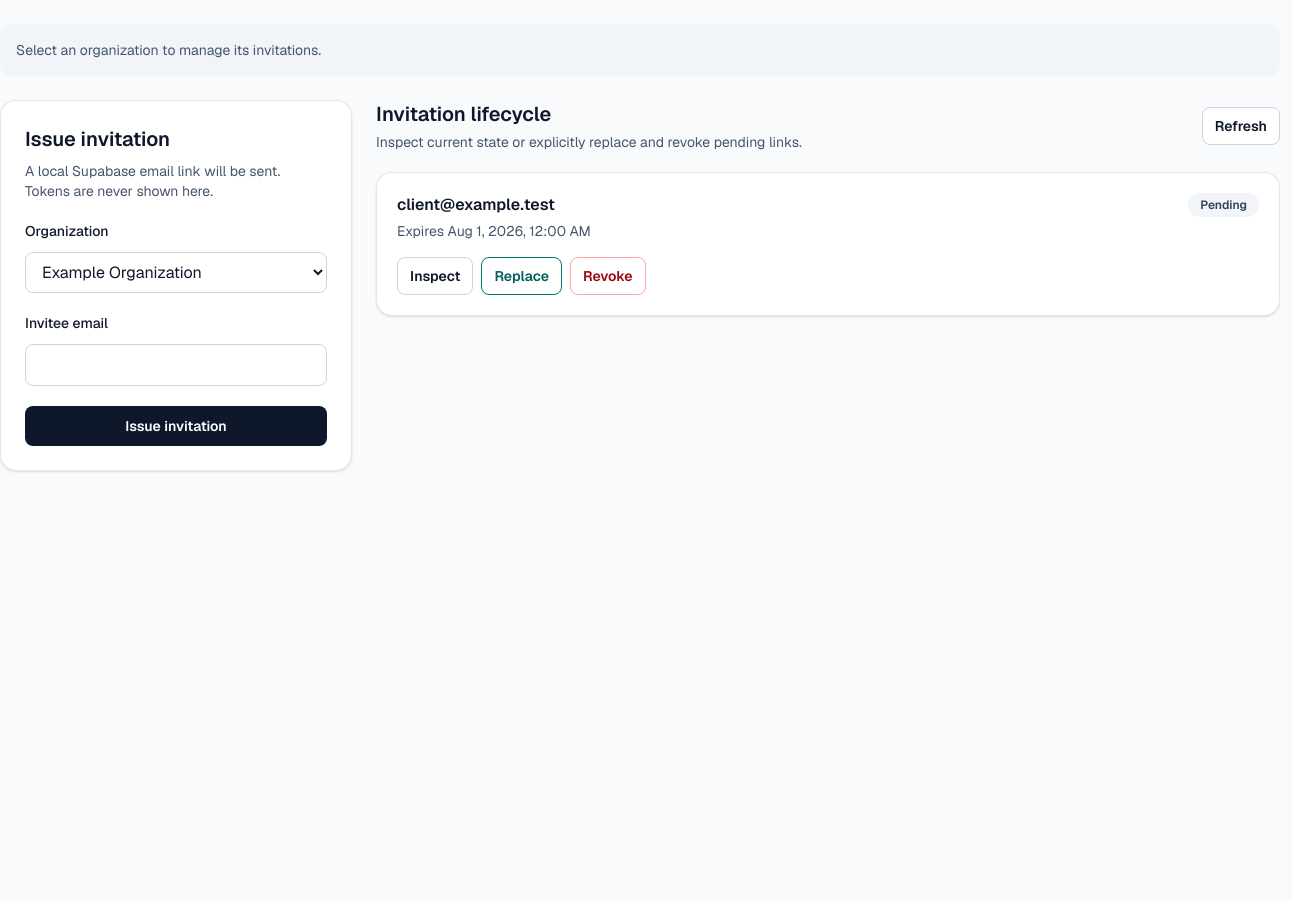
Test: InvitationManager › supports inspection and pending lifecycle actions
Check: the text "client@example.test" is shown, box [397,194,555,215]
Click the button "Inspect": coordinates (435, 276) [397,257,473,295]
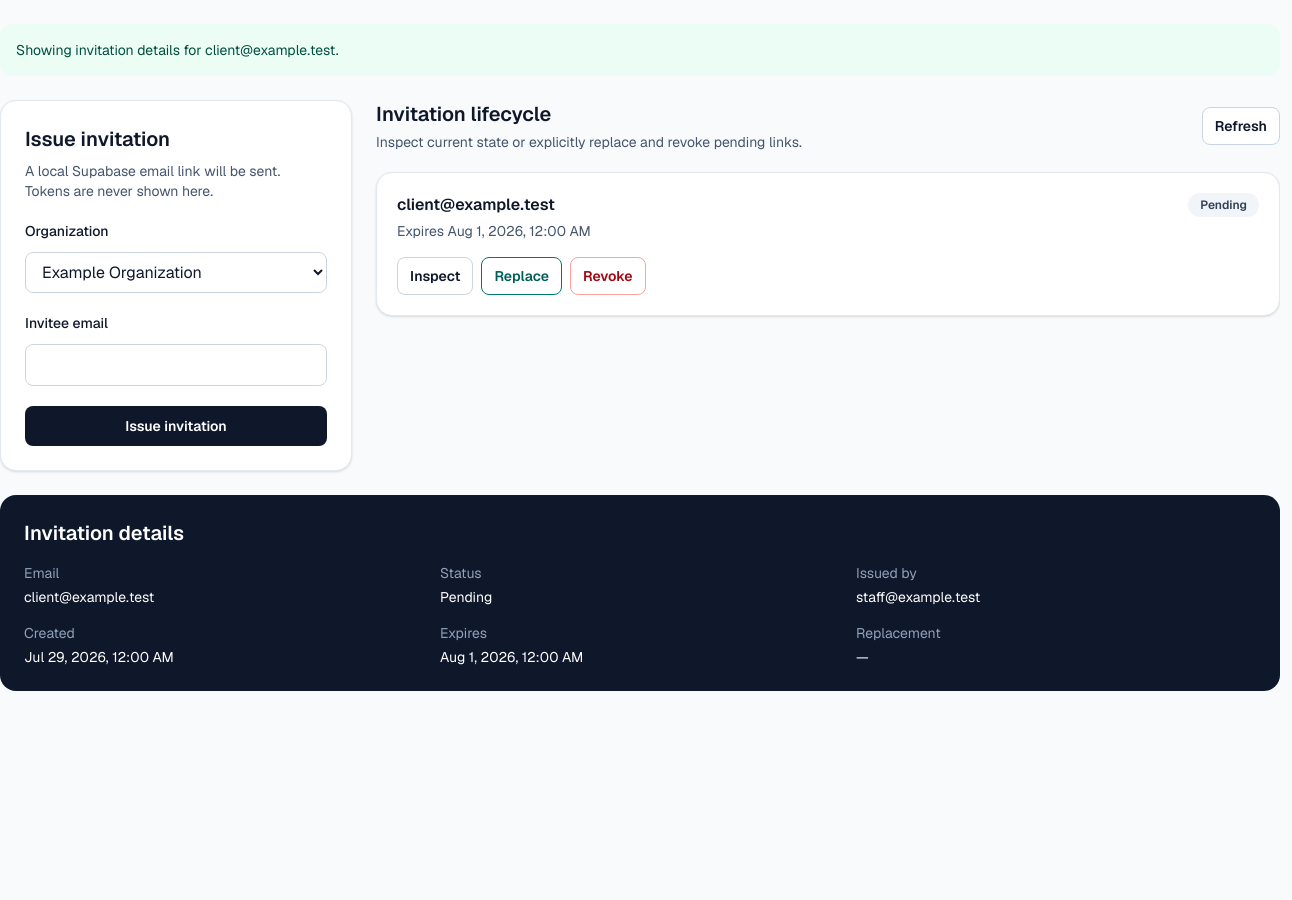
Check: the heading "Invitation details" is shown, box [24,520,184,546]
Check: the text "staff@example.test" is shown, box [856,588,980,606]
Click the button "Replace": coordinates (522, 276) [481,257,562,295]
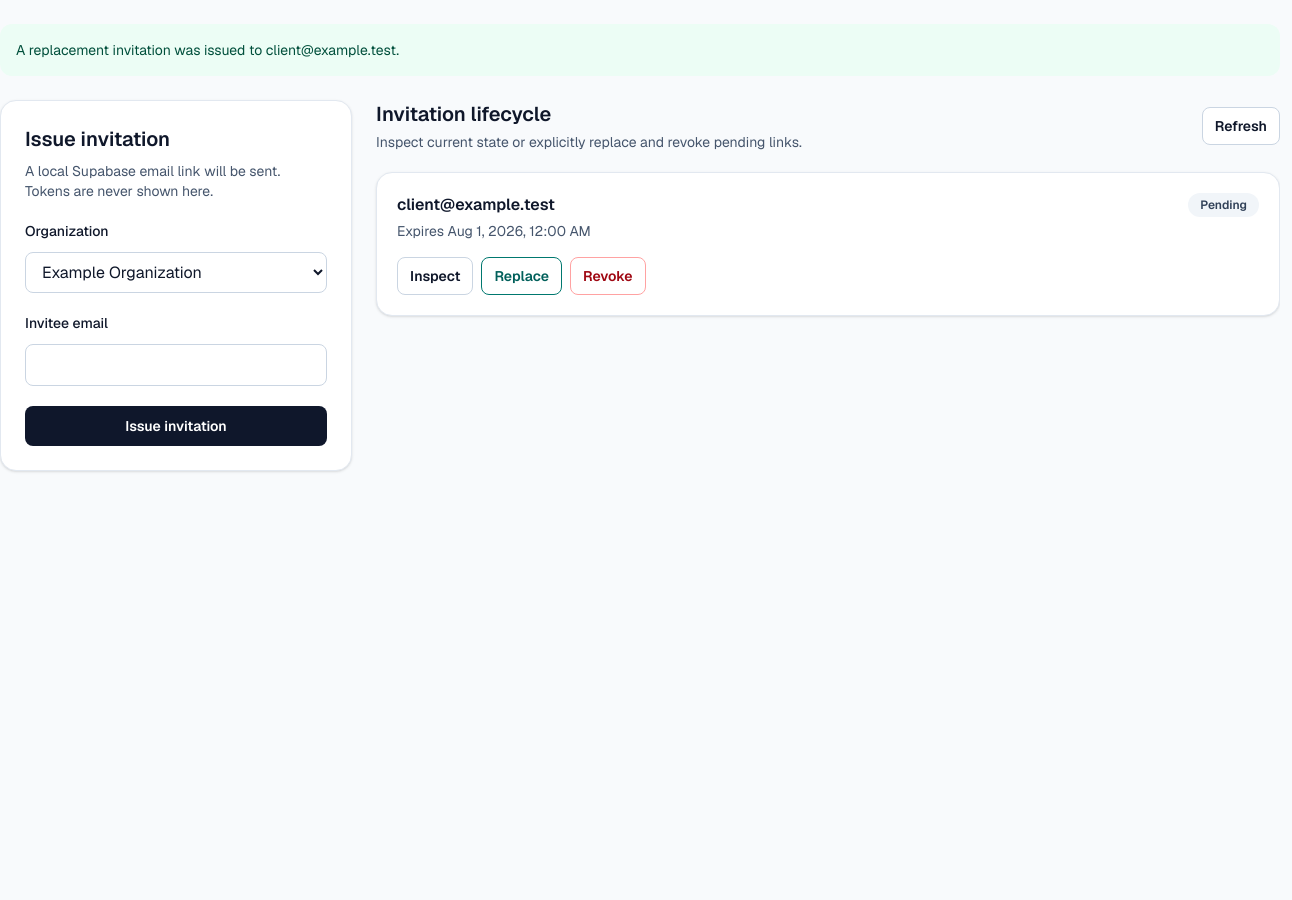
Check: the text "A replacement invitation was issued to client@example.test." is shown, box [0,24,1280,76]
